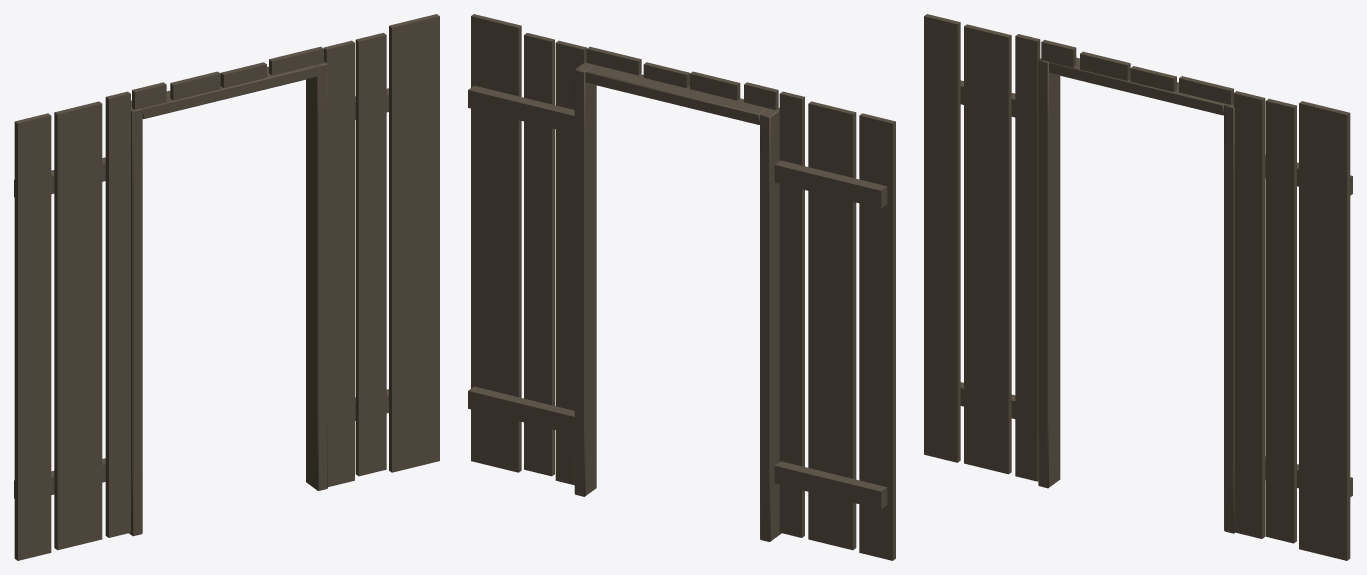
The model's file is bretter_tuer.glb.
3 views of the same model, side by side, from view 1: azimuth 30°, elevation 25°; view 2: azimuth 150°, elevation 25°; view 3: azimuth 330°, elevation 25° (orthographic).
Visible parts, largest first — view 1: bretter_tuer; view 2: bretter_tuer; view 3: bretter_tuer.
Part boxes in pixels (bbox=[...]): bretter_tuer: bbox=[14, 14, 439, 560]; bretter_tuer: bbox=[468, 14, 895, 560]; bretter_tuer: bbox=[924, 14, 1352, 560].
Bounding box in the file's own units: 1.98 × 2 × 0.1.
